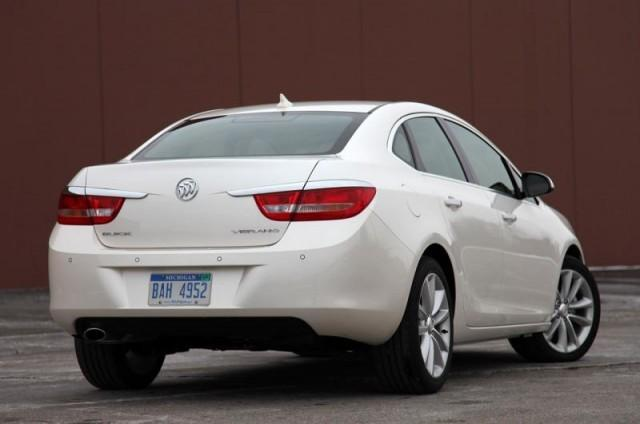car: (27, 67, 638, 420)
